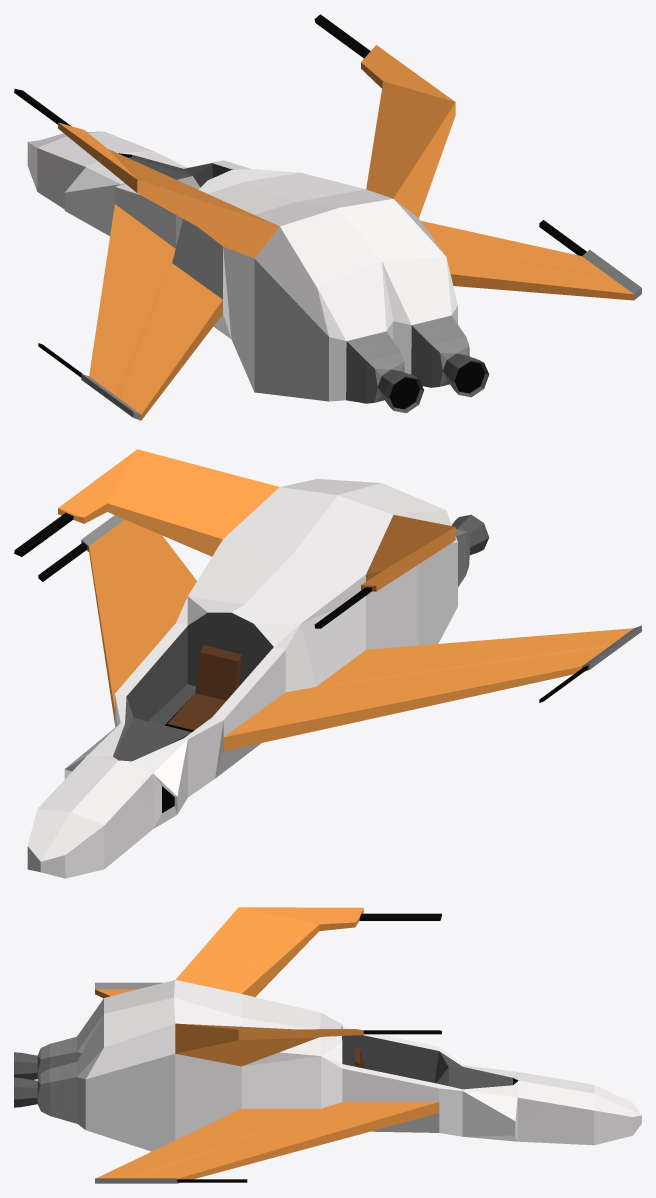
Rendered from space fighter 1.fbx.
3 views of the same model, one above another, from view 1: azimuth 30°, elevation 25°; view 2: azimuth 150°, elevation 25°; view 3: azimuth 270°, elevation 25° (orthographic). The views are drawn at different scales.
Parts seen in each view (by area): view 1: Base Model; view 2: Base Model; view 3: Base Model.
Part boxes in pixels (x1=…): Base Model: x1=14, y1=14, x2=641, y2=420; Base Model: x1=14, y1=449, x2=641, y2=878; Base Model: x1=14, y1=907, x2=641, y2=1183.
Bounding box in the file's own units: 128 × 50.7 × 173.
